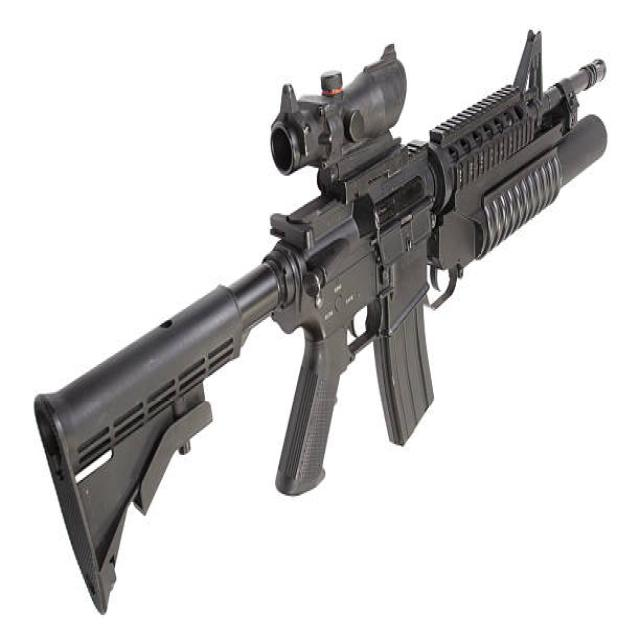rifle: (25, 15, 613, 630)
